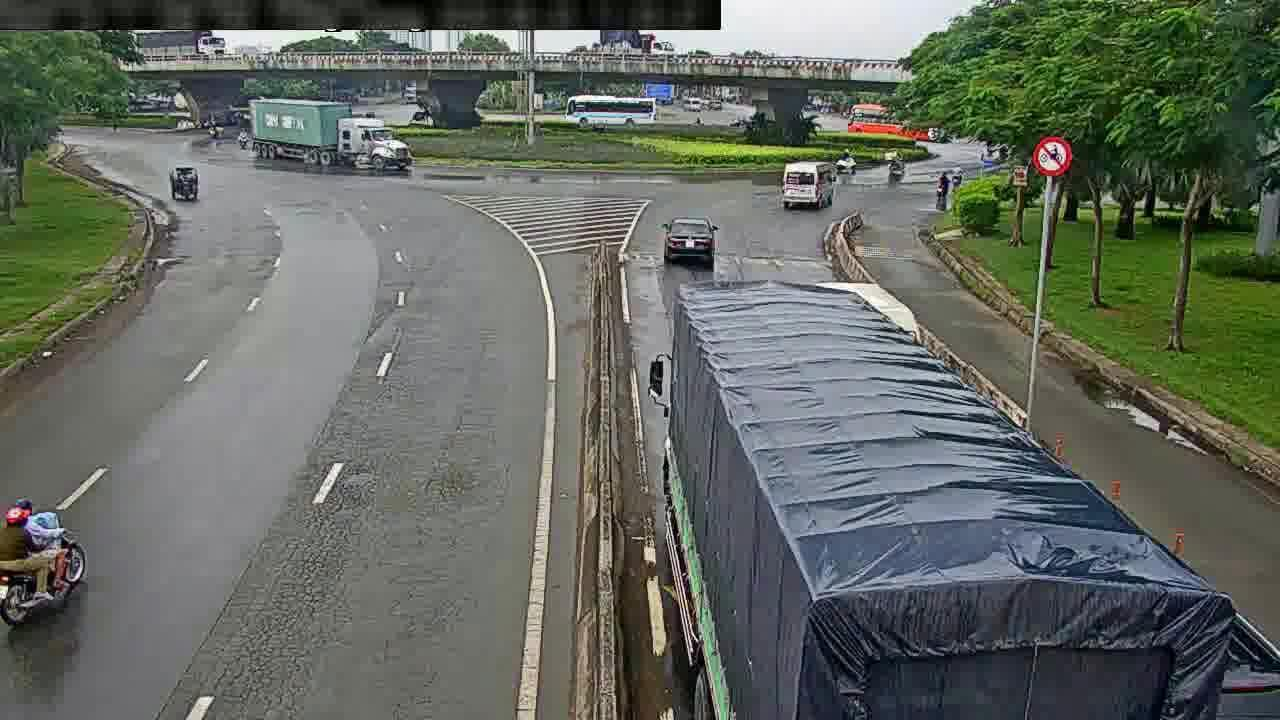14: (780, 157, 838, 214)
8: (646, 263, 1239, 715), (246, 97, 417, 174)
container: (660, 210, 722, 273)
motorbike: (839, 147, 861, 175), (933, 167, 951, 200), (944, 165, 965, 192)
